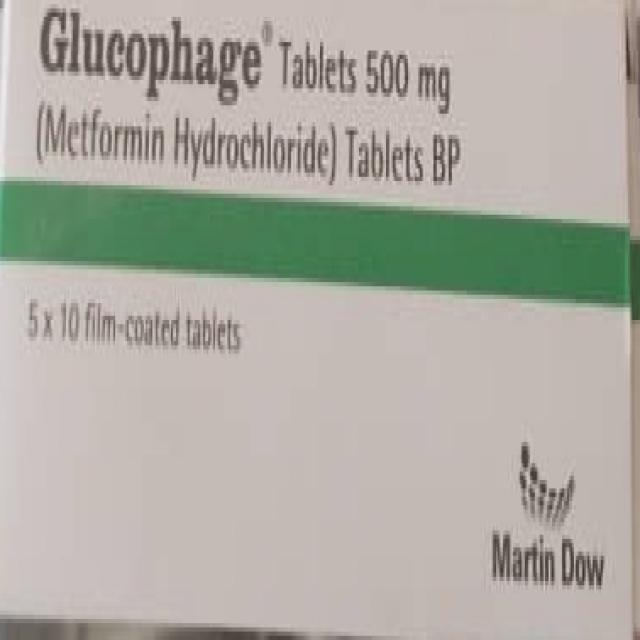drug-name: (40, 8, 262, 105)
